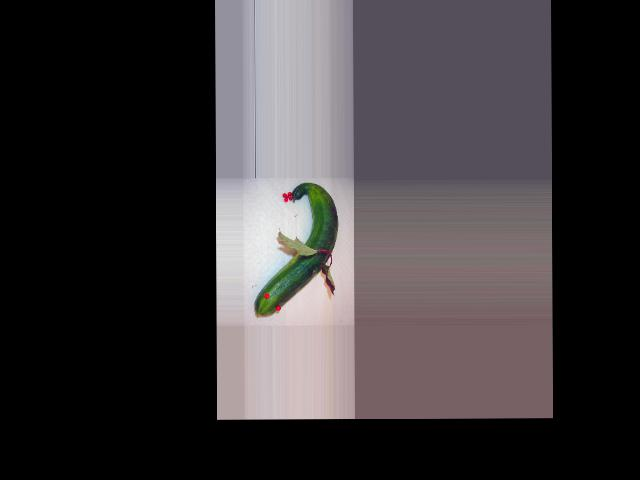cucumber: (253, 182, 338, 315)
